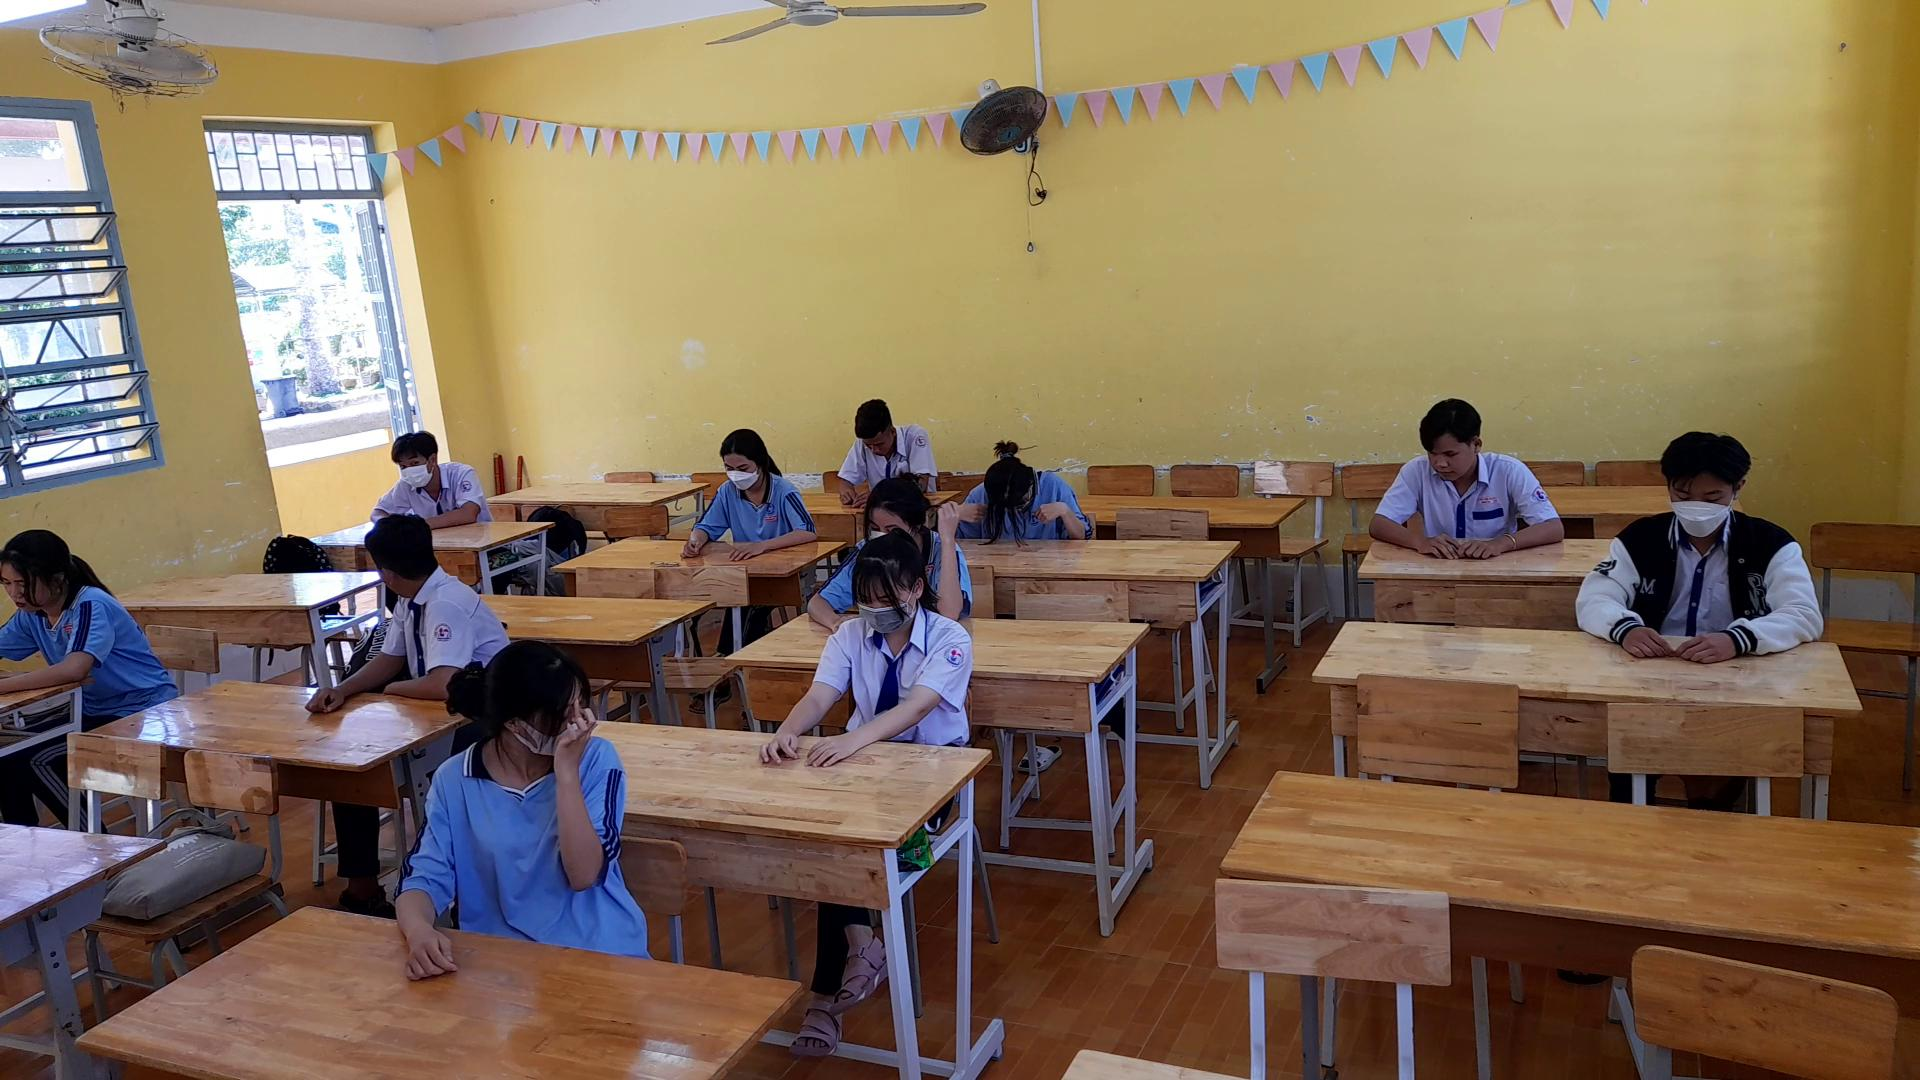Bend Over The Desk: (973, 433, 1040, 524), (843, 378, 909, 469)
Look Around: (351, 505, 450, 593)
Normal: (1560, 423, 1826, 665), (765, 526, 972, 765), (1362, 378, 1565, 570), (0, 506, 167, 694), (669, 417, 822, 564), (368, 401, 487, 524)
Wave: (549, 694, 622, 890)
